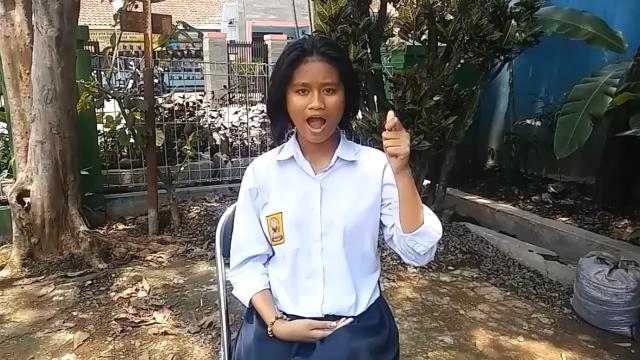A: (374, 108, 414, 178)
